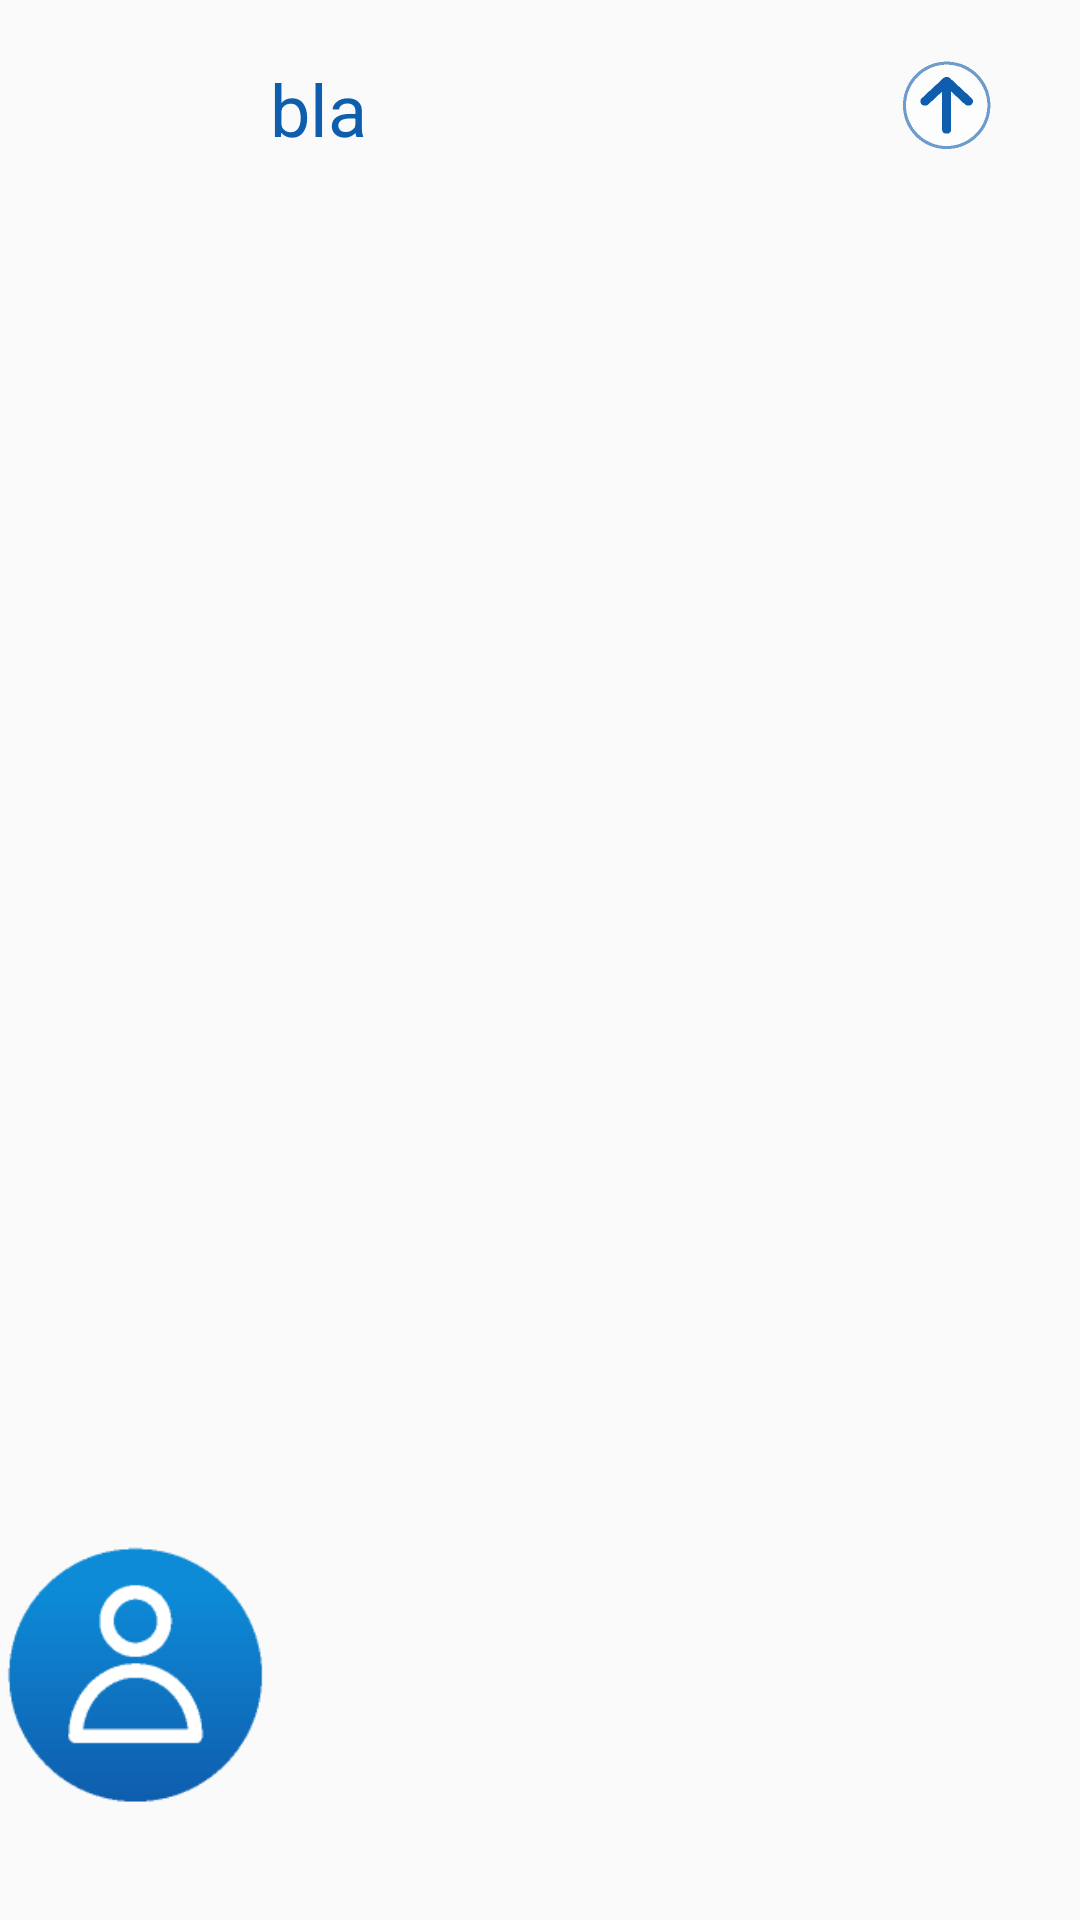

Named icons in this screenshot (1080px x 1920px) and their bounding boxes, (x1, y1, x2, y2):
user: (8, 1547, 263, 1802)
